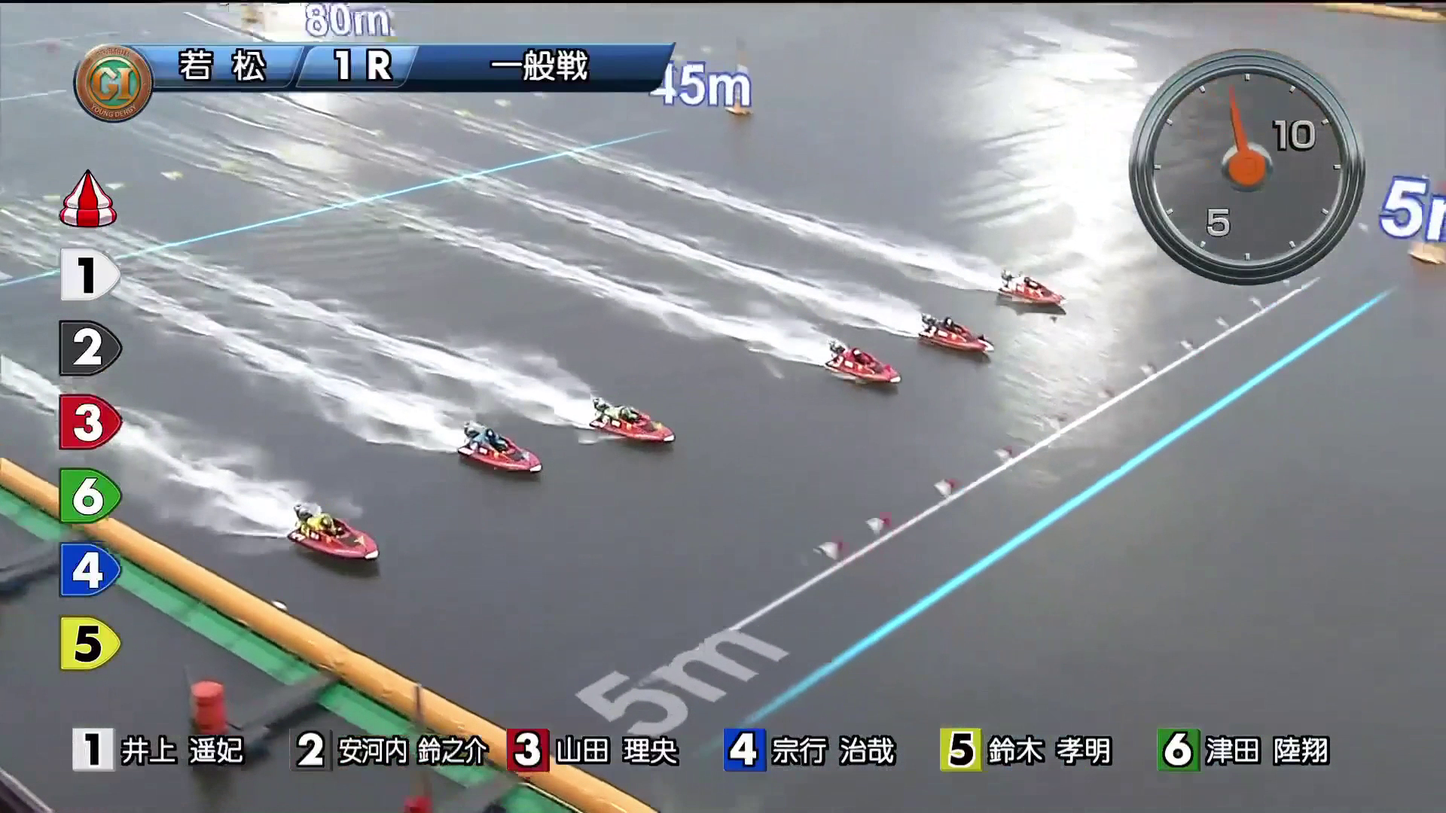１号艇: (974, 259, 1041, 305)
２号艇: (924, 308, 985, 346)
３号艇: (831, 338, 886, 380)
４号艇: (611, 401, 674, 444)
５号艇: (482, 448, 551, 486)
６号艇: (349, 549, 414, 595)
